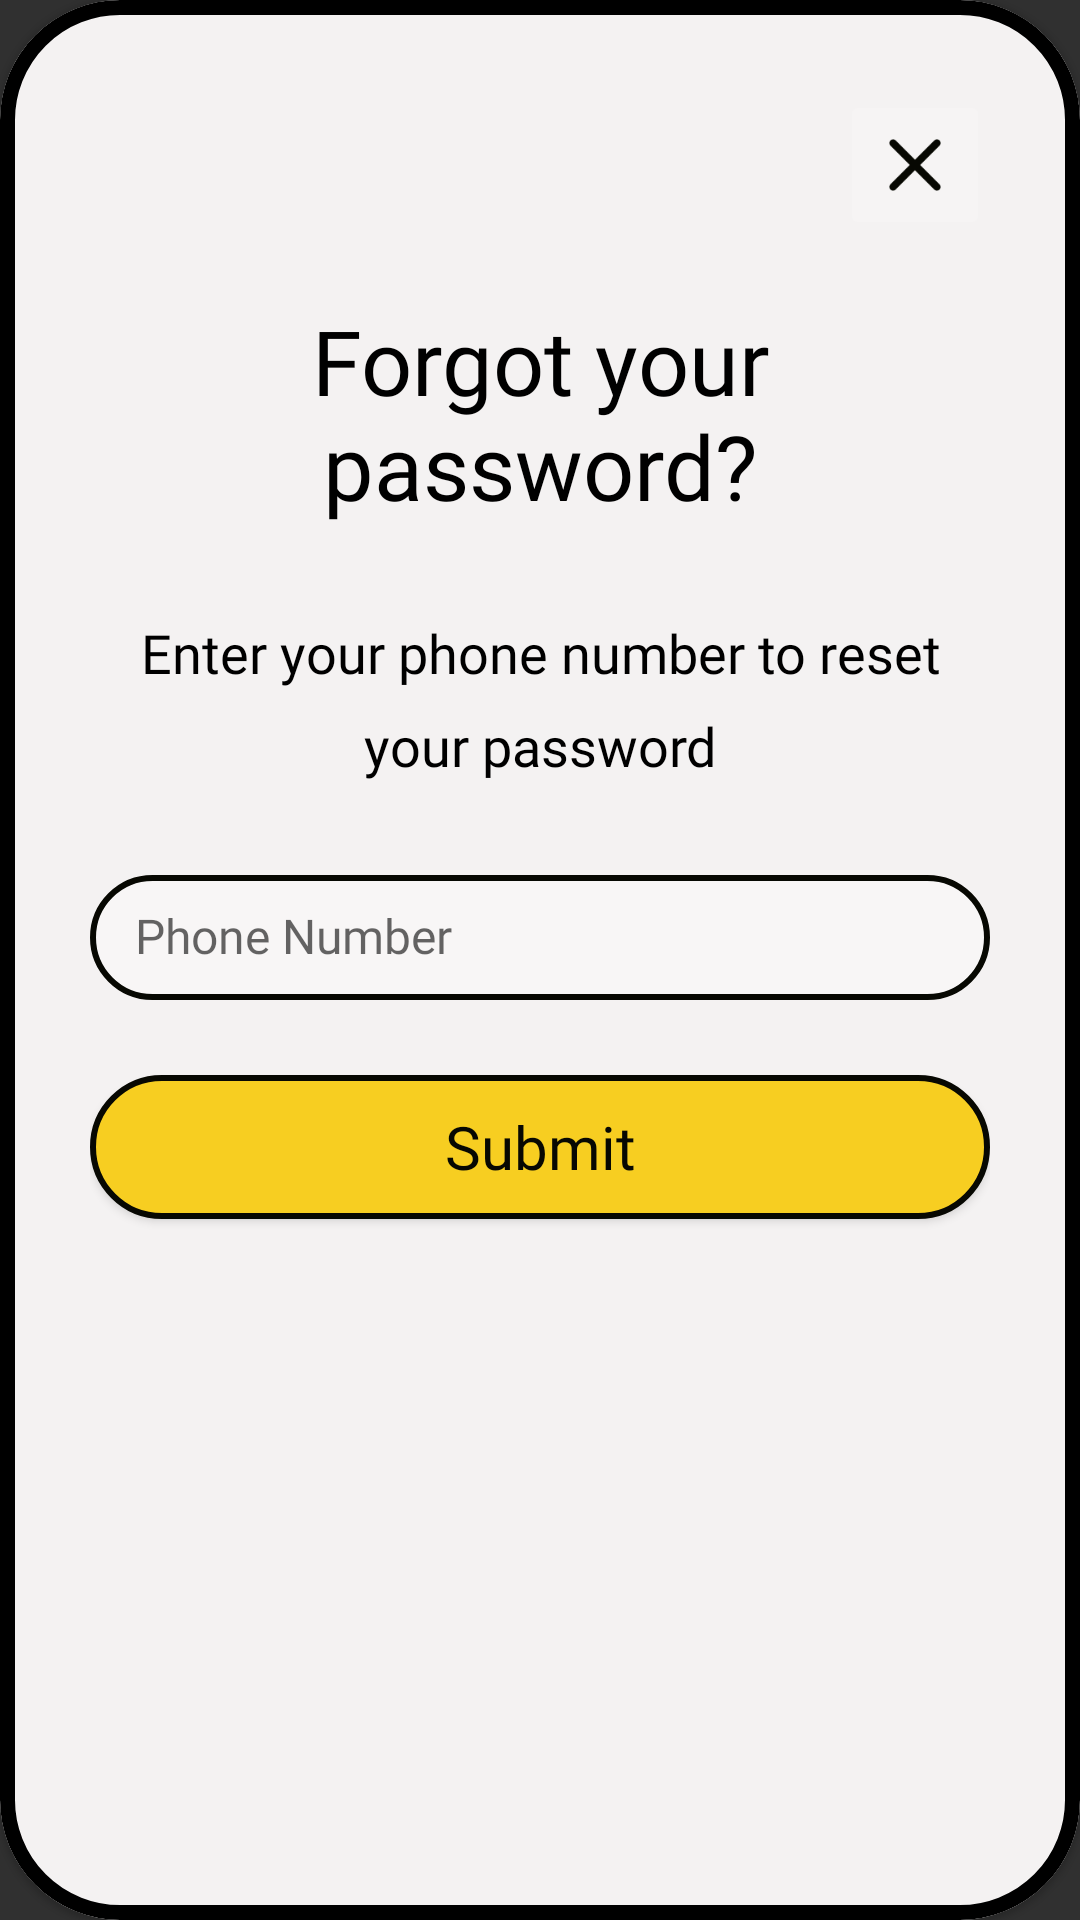

Screen size 1080×1920. Icon name, then its center in pixels as (x=x, y=y):
close: (x=915, y=165)
